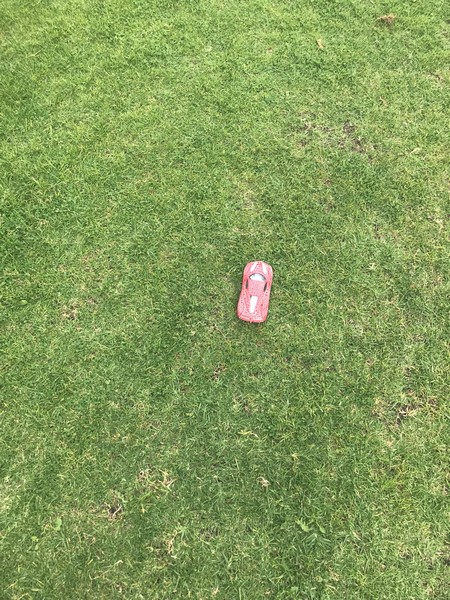RC: (235, 260, 275, 325)
